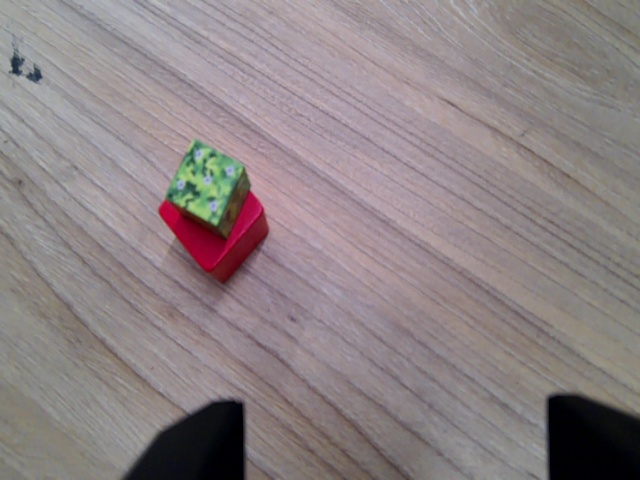grass: (162, 144, 245, 235)
